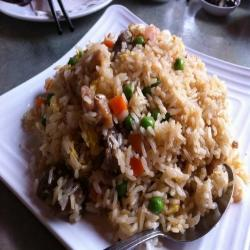rice: (38, 39, 227, 235)
